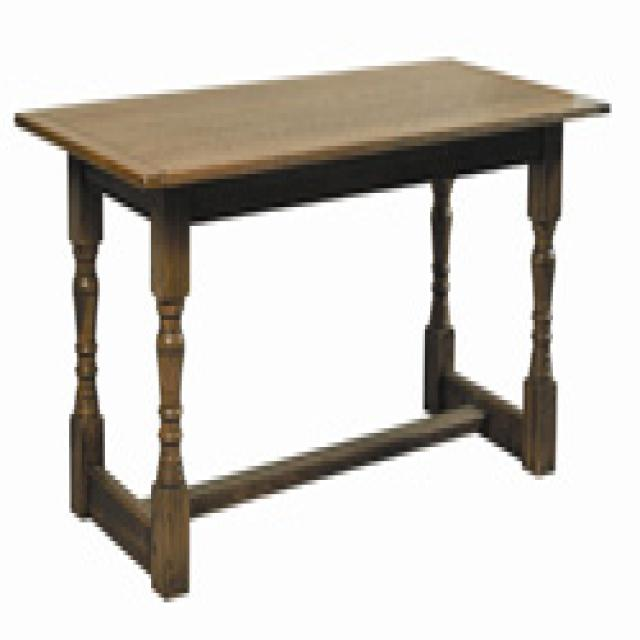table: (14, 54, 613, 602)
